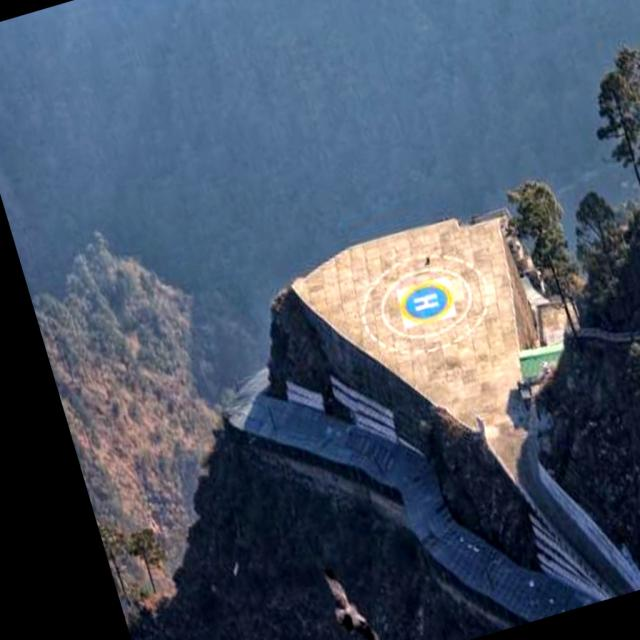helipad: (398, 280, 454, 322)
